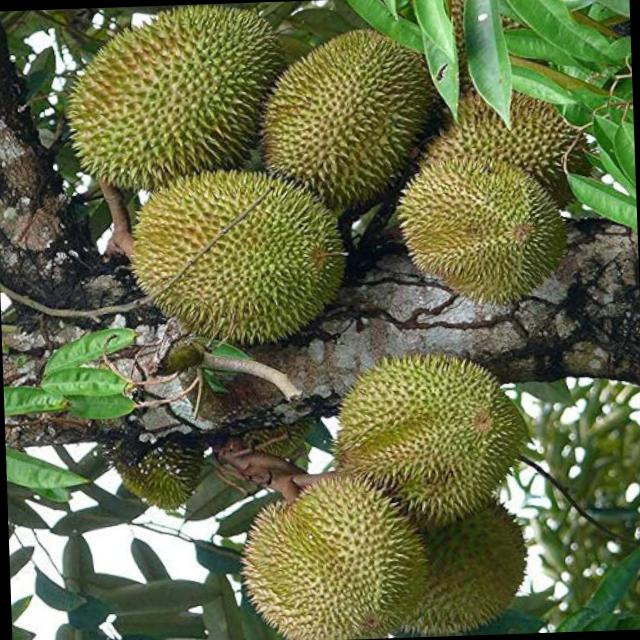Sau Rieng: (60, 6, 284, 193), (125, 165, 344, 348), (258, 29, 436, 209), (338, 354, 526, 522), (393, 129, 569, 305), (240, 474, 423, 636), (418, 92, 596, 198), (404, 502, 524, 632), (110, 434, 206, 514), (232, 415, 314, 464), (441, 0, 471, 87)
